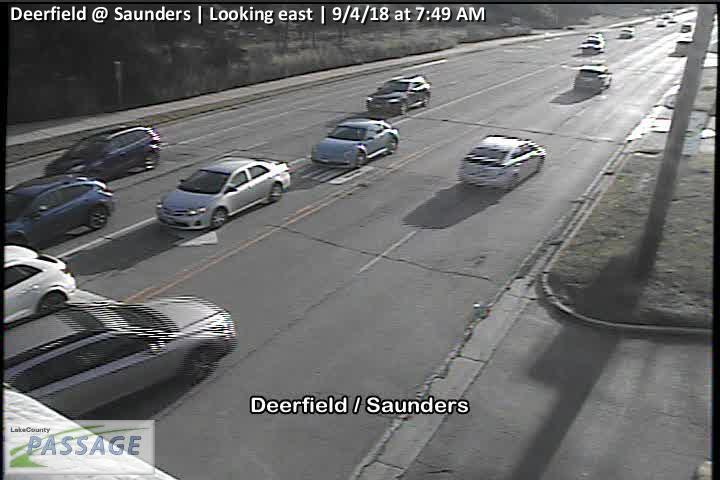SUV: (1, 172, 113, 254), (44, 125, 161, 187), (366, 75, 430, 114)
Sedan: (1, 294, 239, 431), (154, 153, 291, 230), (459, 132, 546, 189), (312, 116, 400, 169), (574, 64, 612, 92)
